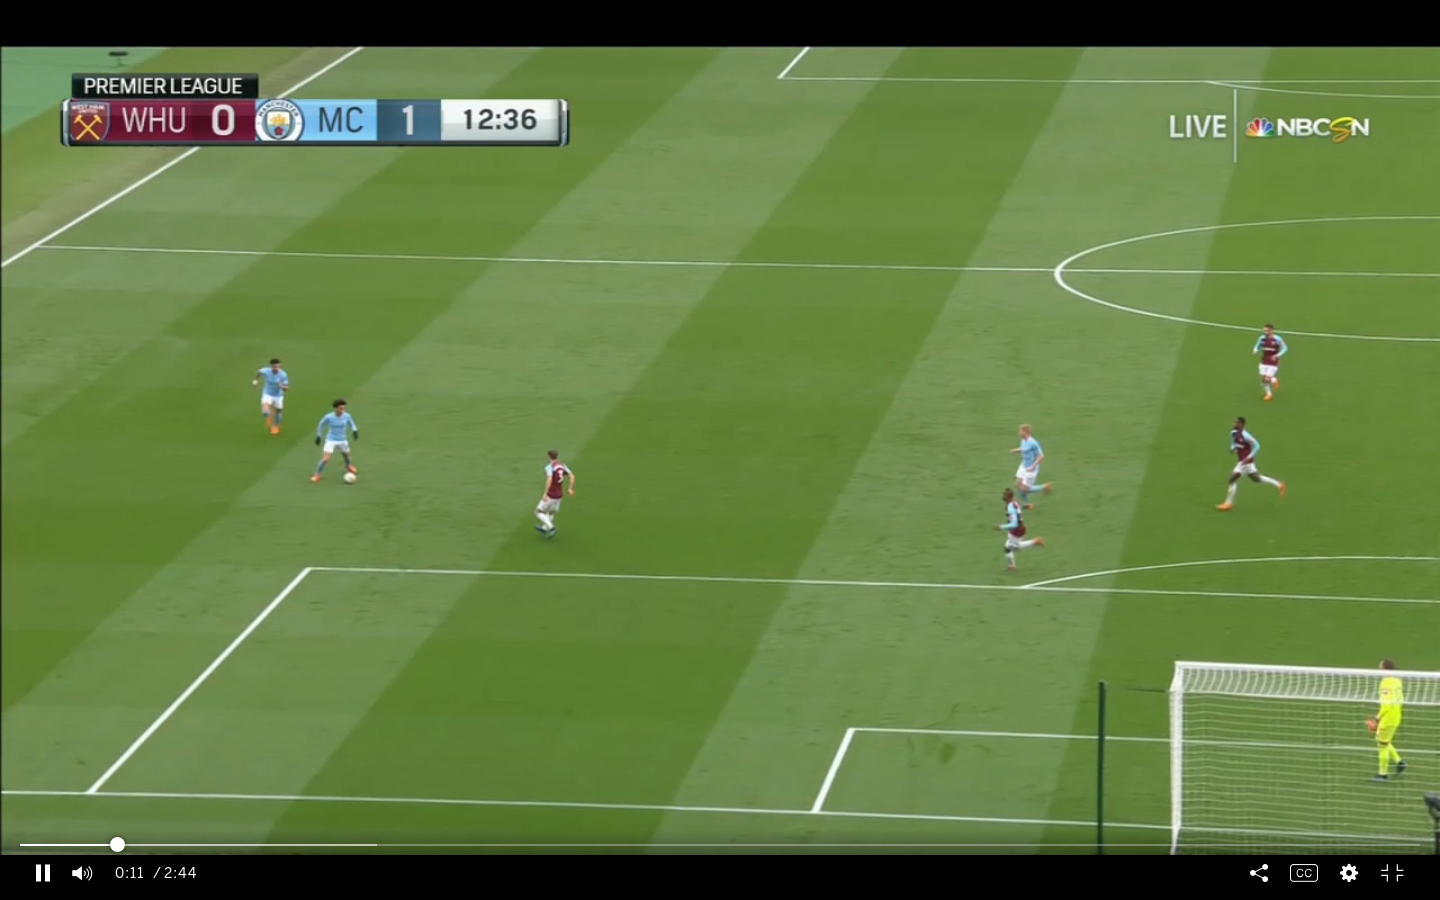soccer player: (1212, 416, 1290, 520), (1367, 652, 1413, 791), (998, 482, 1047, 577), (312, 397, 358, 488), (1010, 423, 1056, 511), (535, 449, 578, 543), (250, 356, 293, 437), (1248, 322, 1292, 402)
soccerball: (339, 468, 359, 486)
